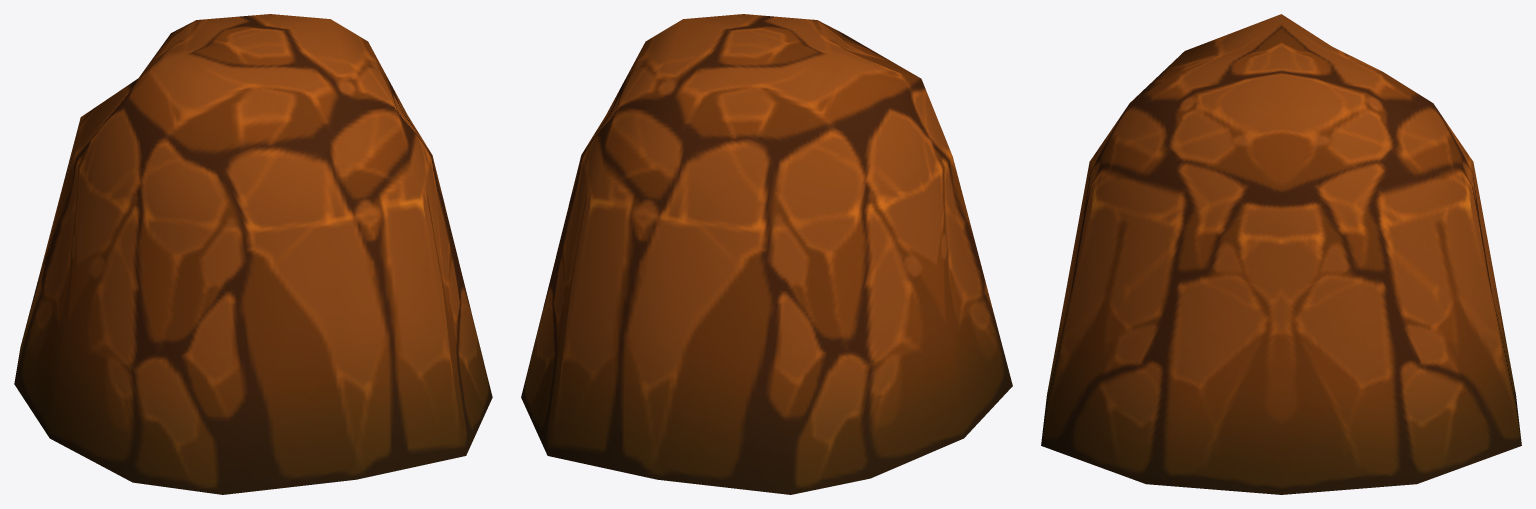
Rendered from Rock_01.FBX.
The picture shows the model from 3 angles, left to right: view 1: azimuth 30°, elevation 25°; view 2: azimuth 150°, elevation 25°; view 3: azimuth 270°, elevation 25°; orthographic projection.
Visible parts, largest first — view 1: Rock_01; view 2: Rock_01; view 3: Rock_01.
Part boxes in pixels (box(x1,y1,x2,y2)): Rock_01: box(14, 14, 492, 494); Rock_01: box(521, 14, 1012, 494); Rock_01: box(1041, 14, 1521, 494).
Bounding box in the file's own units: 200 × 169 × 213.
